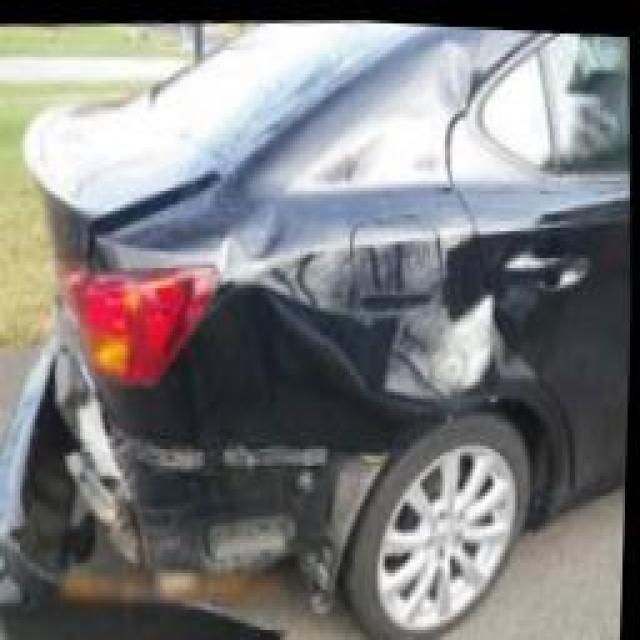rapairable: (428, 39, 473, 120)
replaceable: (53, 426, 375, 576), (240, 220, 513, 387), (40, 330, 82, 430)
